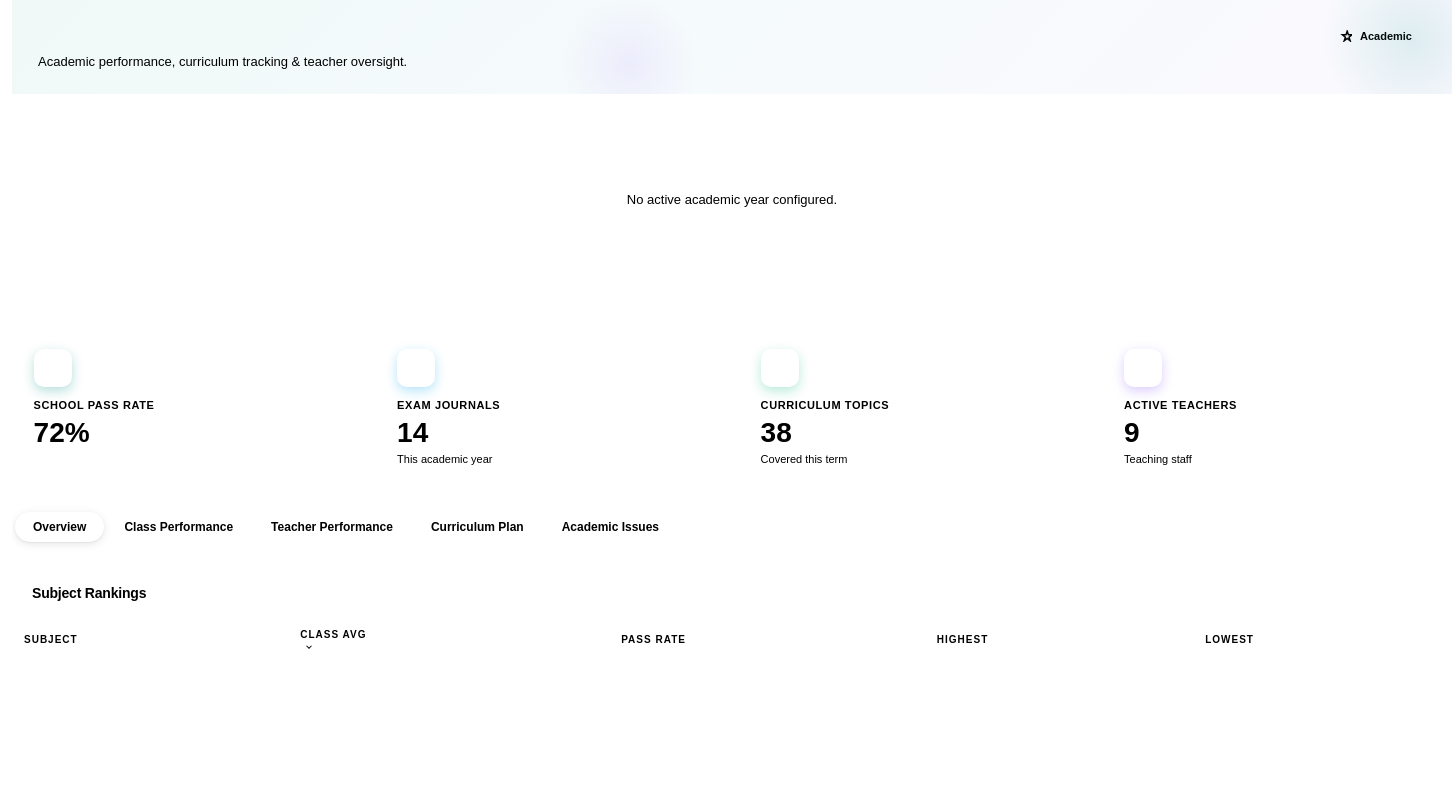
Scenario: DosDashboard › clicking Class Performance tab shows class selector
The image size is (1452, 810).
Click the tab "Class Performance": [179, 528] box [106,512,251,542]
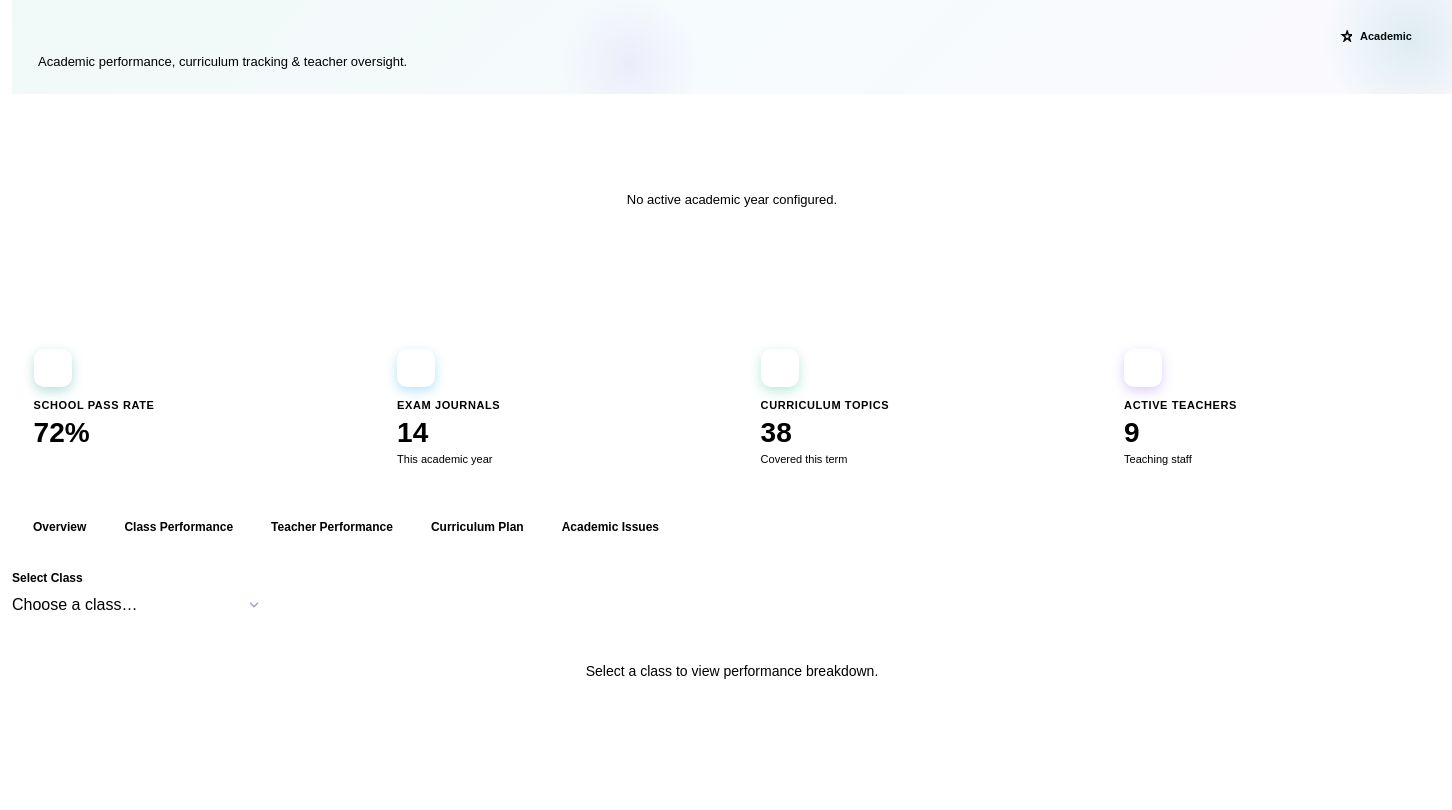
Now the text "Select Class" is shown, box [12,572,83,586]
